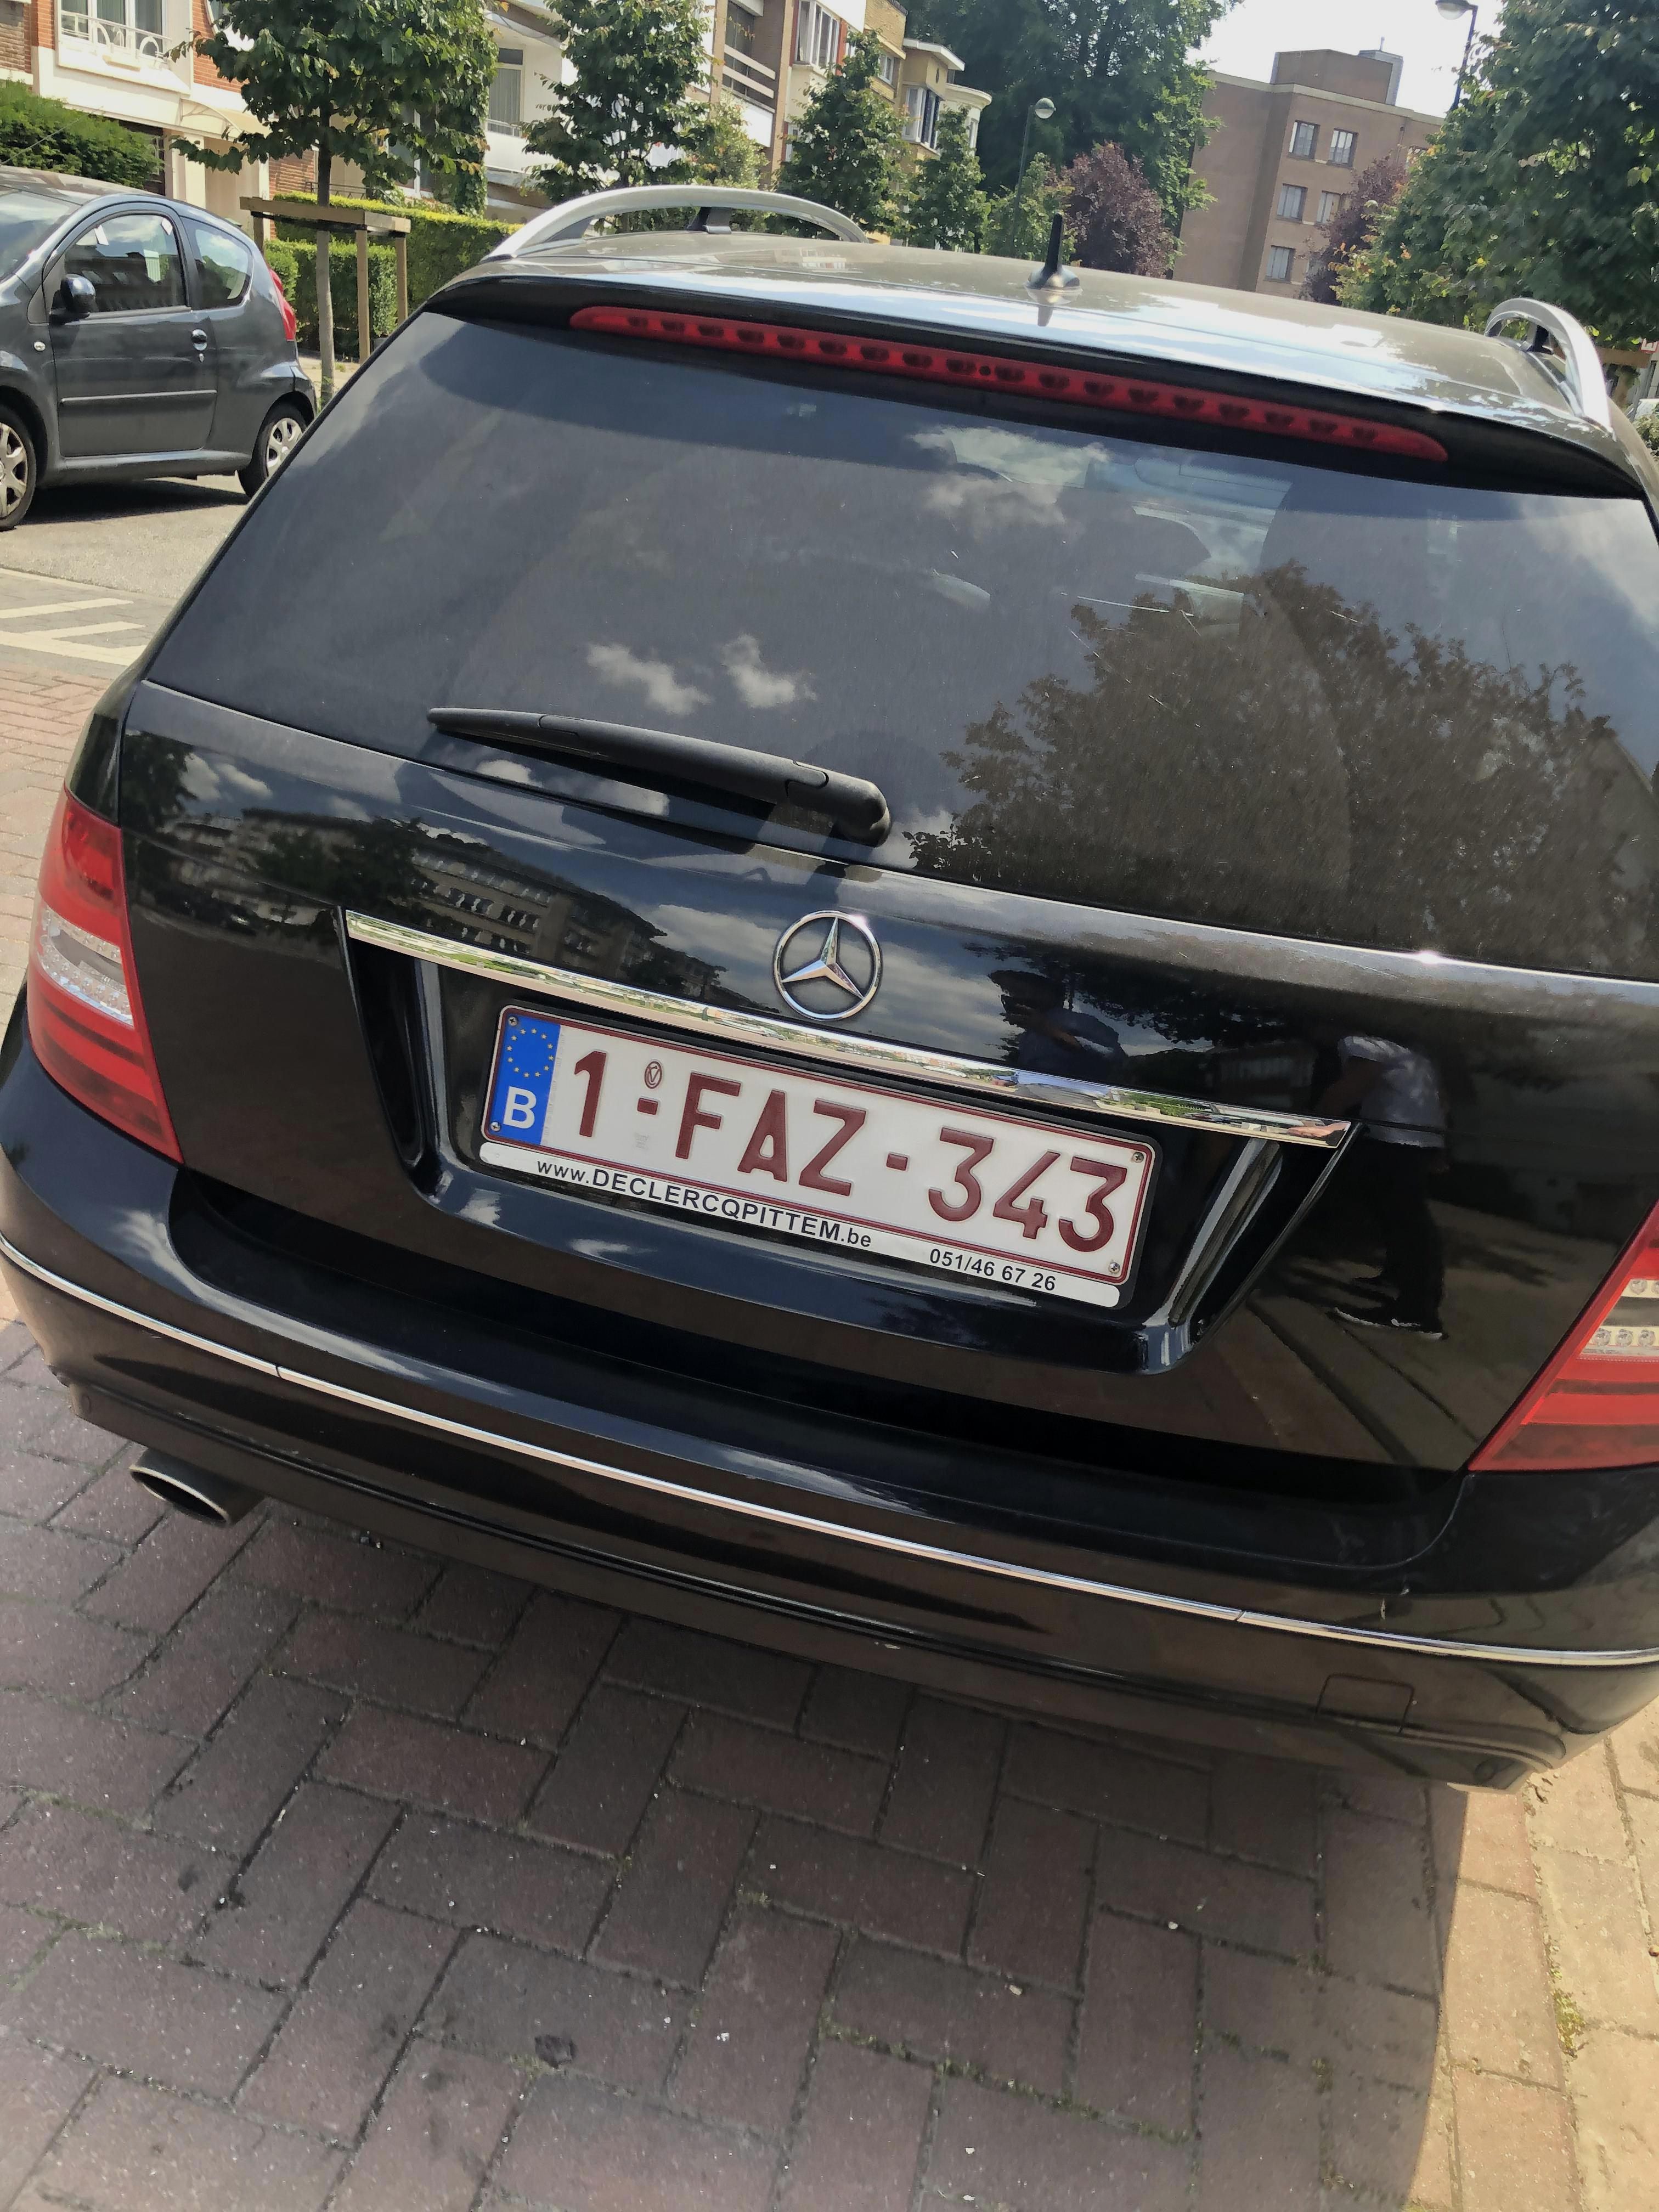plate: (449, 956, 1171, 1311)
